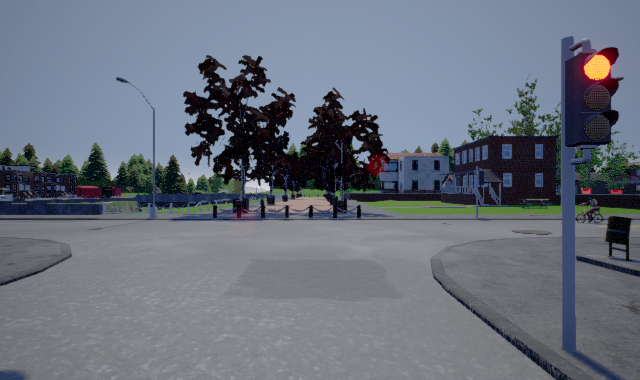bike: (575, 195, 605, 224)
traffic_light: (564, 46, 619, 148)
